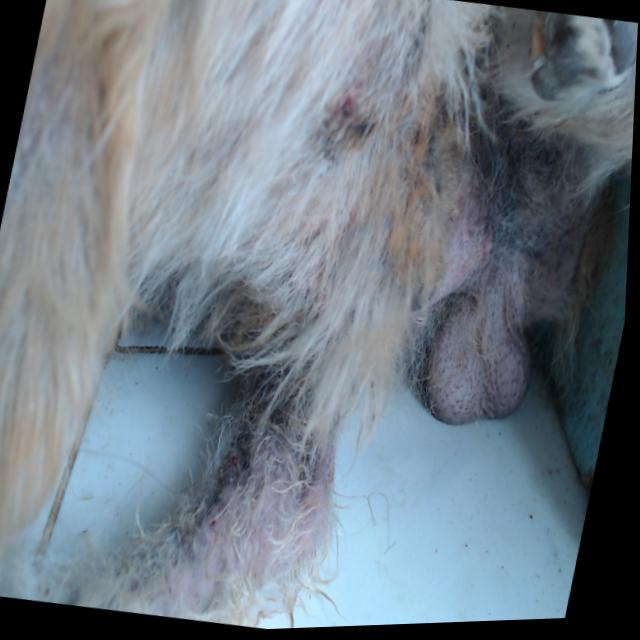demodicosis: (160, 415, 349, 617), (319, 67, 369, 124)
